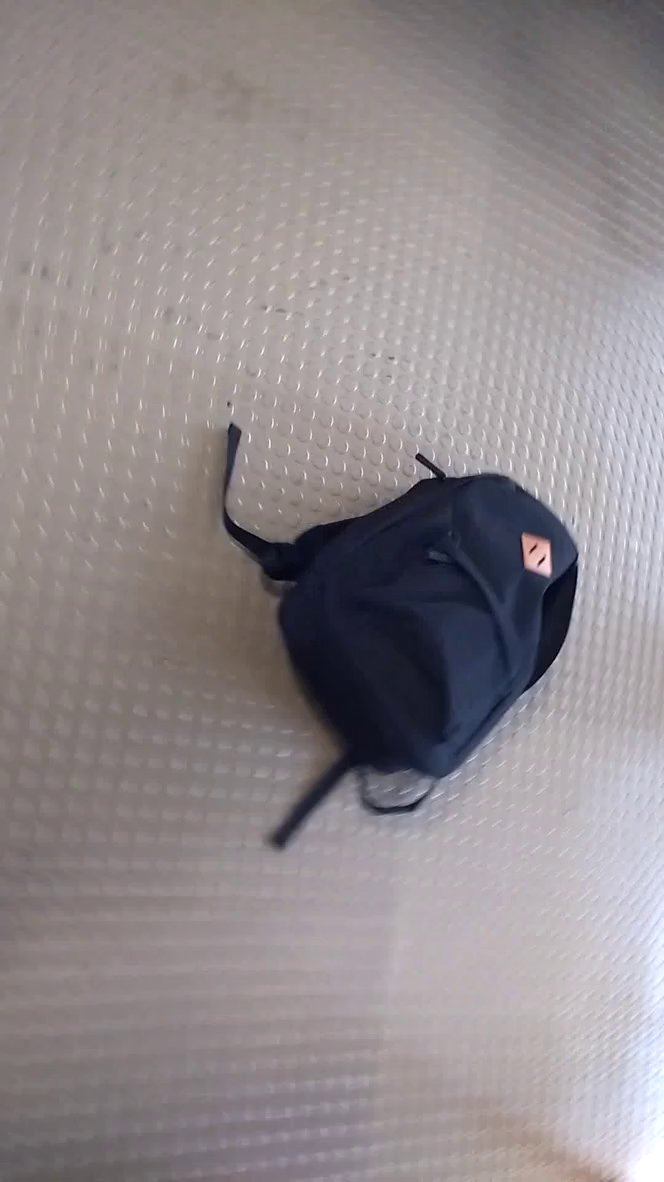bag: (218, 409, 597, 856)
